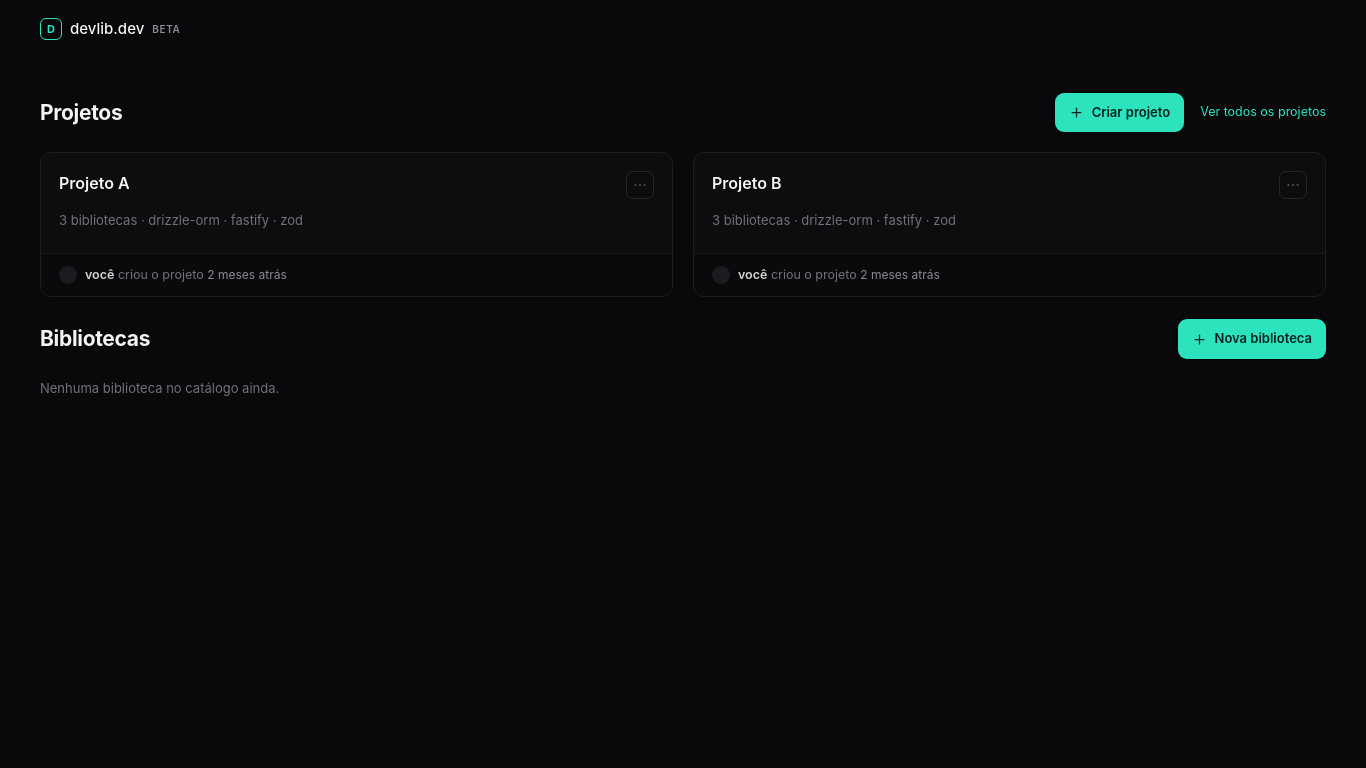
Test: Home page › exclui um projeto a partir do card e atualiza a lista
Check: the link "Projeto A" is shown, box [59,171,130,195]
What coordinates should you click on to do the following:
click the button "···" in the row of "Projeto A"
I would click on:
 (640, 185)
Its box is [626,171,654,199].
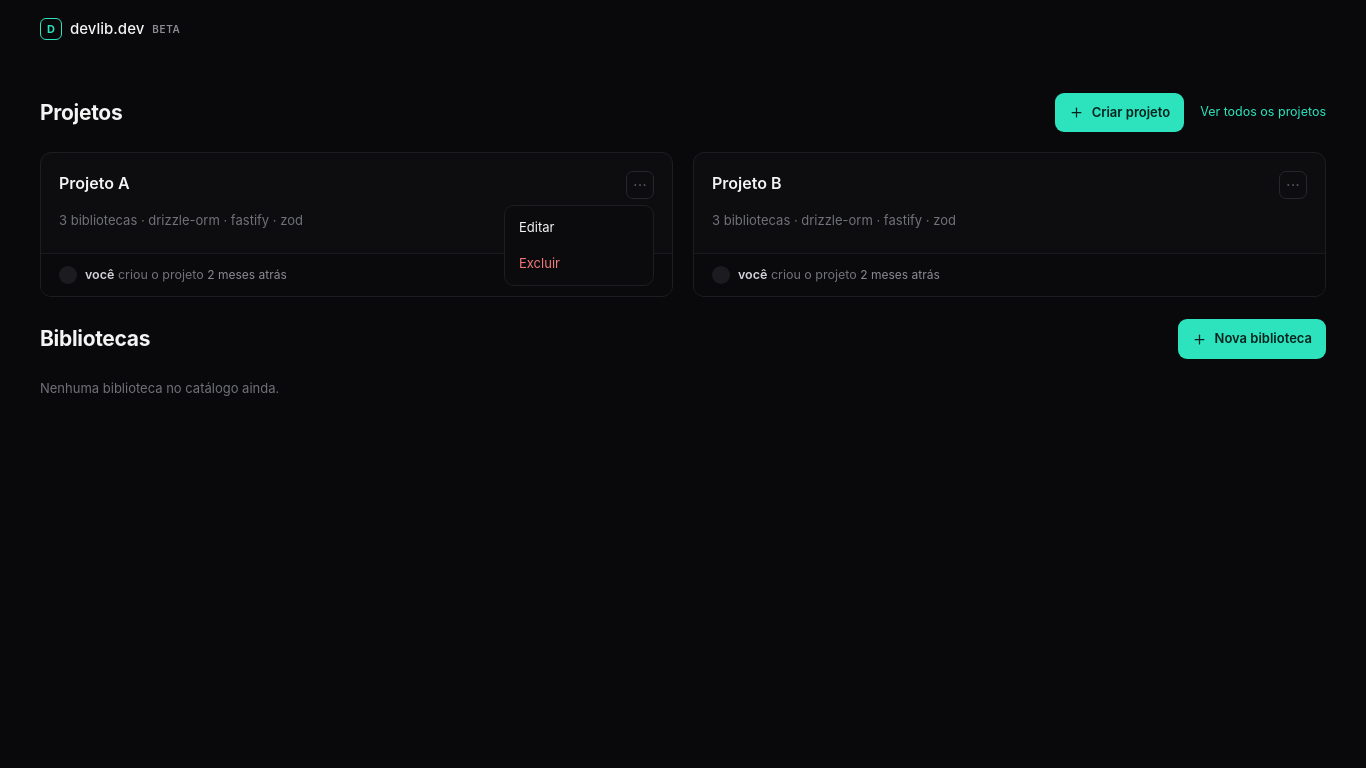
What coordinates should you click on to do the following:
click the menu item "Excluir"
I would click on:
 (539, 262)
Its box is [519,254,560,270].
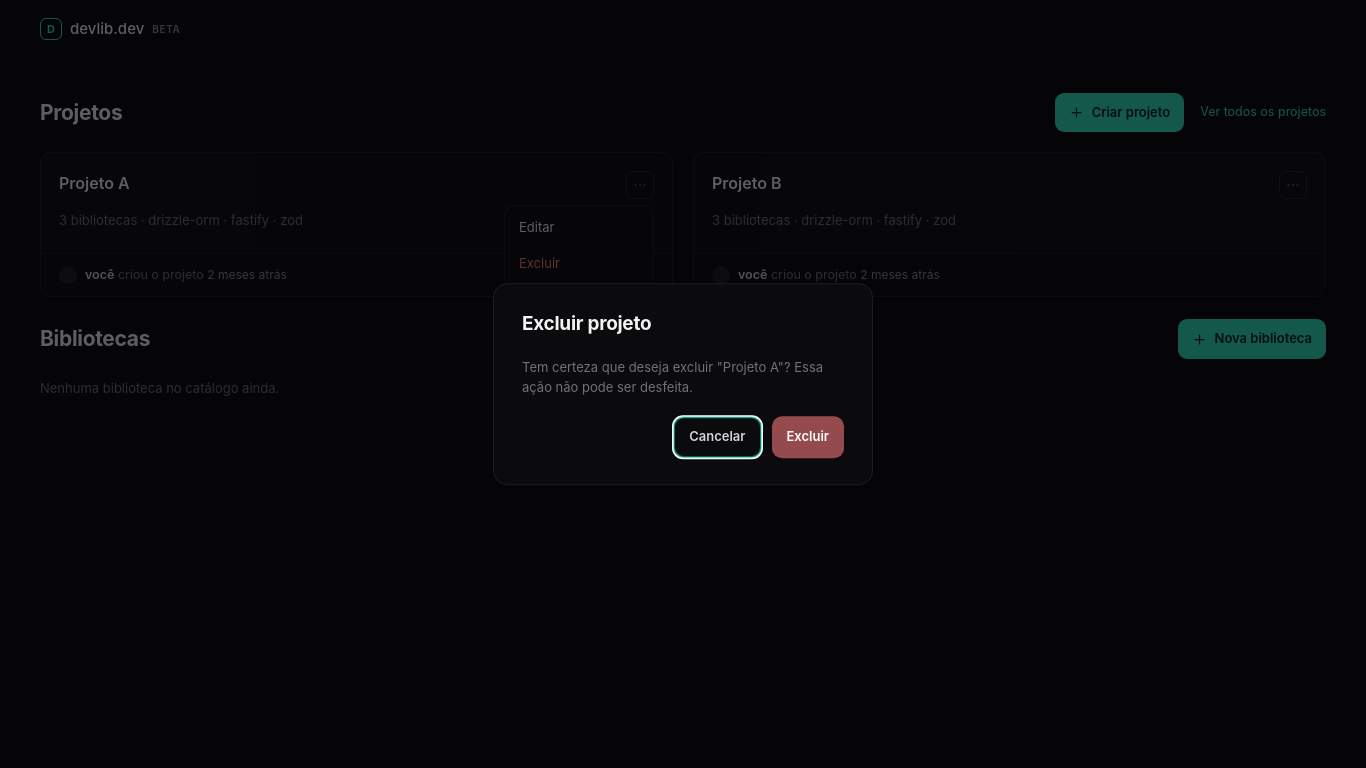
What coordinates should you click on to do the following:
click the button "Excluir"
I would click on:
 (808, 437)
Its box is [772,416,844,458].
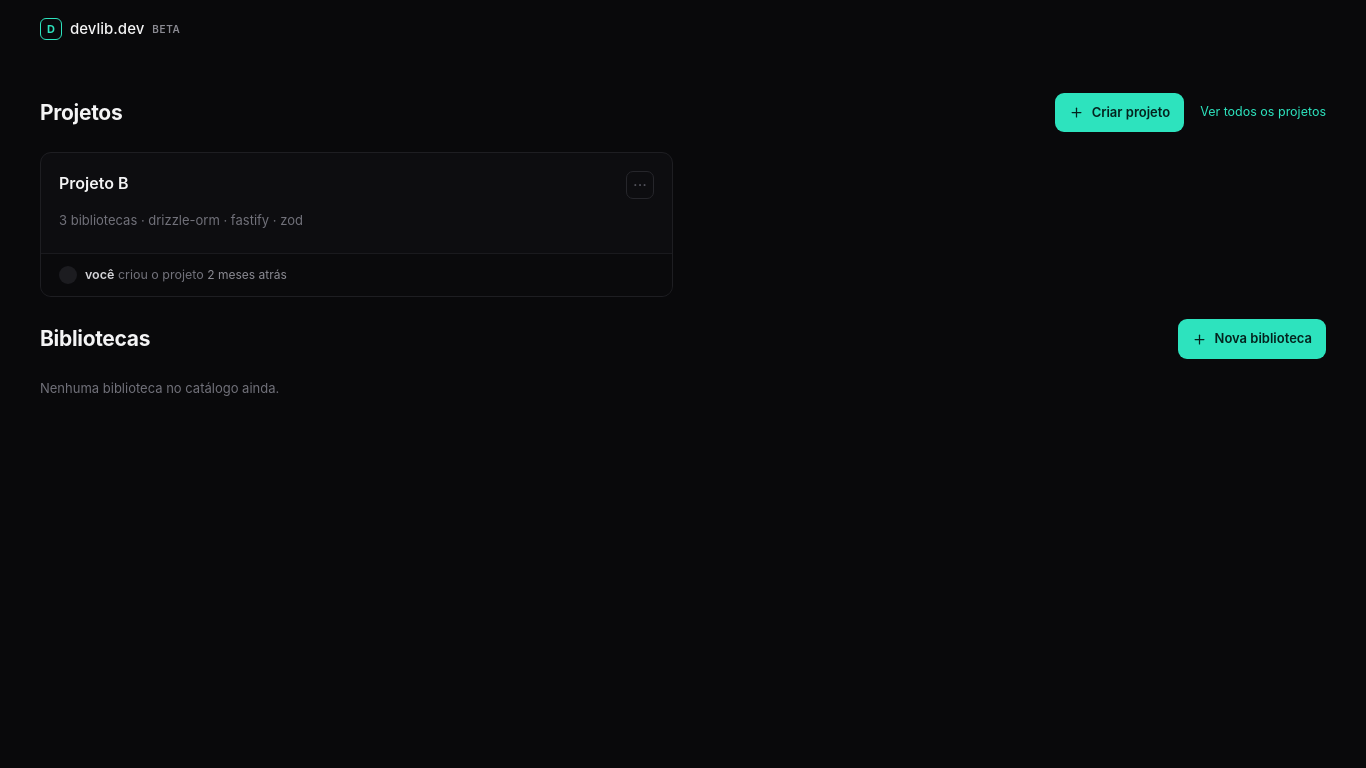
Check: the link "Projeto A" is gone
